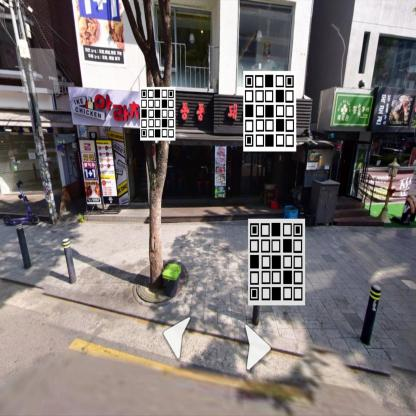qncode: (244, 206, 311, 313), (239, 65, 301, 162), (136, 76, 181, 158)
